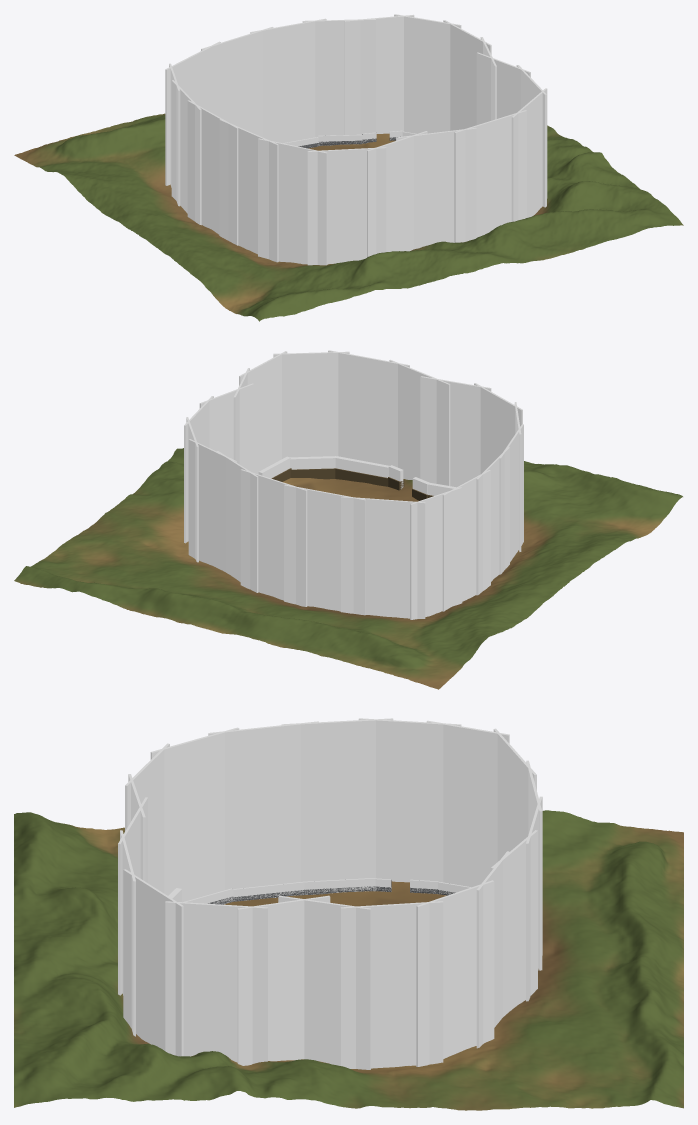
File: firingrange_shell.glb
3 renders of one model, top to bottom at view 1: azimuth 30°, elevation 25°; view 2: azimuth 150°, elevation 25°; view 3: azimuth 270°, elevation 25°, orthographic. The views are drawn at different scales.
Parts seen in each view (by area): view 1: Terrain_Visual, COL_OutOfBounds_14, COL_OutOfBounds_11, COL_OutOfBounds_2, COL_OutOfBounds_15, COL_OutOfBounds_12, COL_OutOfBounds_5, COL_OutOfBounds_3, COL_OutOfBounds_4, COL_OutOfBounds_16, COL_OutOfBounds_1, COL_OutOfBounds_17 (+8 smaller); view 2: Terrain_Visual, COL_OutOfBounds_0, COL_OutOfBounds_1, COL_OutOfBounds_11, COL_OutOfBounds_10, COL_OutOfBounds_2, COL_OutOfBounds_13, COL_OutOfBounds_19, COL_OutOfBounds_12, COL_OutOfBounds_4, COL_OutOfBounds_18, COL_OutOfBounds_9 (+11 smaller); view 3: Terrain_Visual, COL_OutOfBounds_6, COL_OutOfBounds_9, COL_OutOfBounds_16, COL_OutOfBounds_17, COL_OutOfBounds_18, COL_OutOfBounds_5, COL_OutOfBounds_15, COL_OutOfBounds_8, COL_OutOfBounds_7, COL_OutOfBounds_19, COL_OutOfBounds_10 (+11 smaller).
Boxes of the visible parts, x1,y1,x2,y2 form: Terrain_Visual: [14, 113, 683, 321]; COL_OutOfBounds_14: [307, 147, 386, 265]; COL_OutOfBounds_11: [454, 110, 526, 242]; COL_OutOfBounds_2: [250, 18, 326, 143]; COL_OutOfBounds_15: [258, 138, 327, 265]; COL_OutOfBounds_12: [396, 128, 476, 249]; COL_OutOfBounds_5: [394, 14, 461, 133]; COL_OutOfBounds_3: [302, 19, 375, 137]; COL_OutOfBounds_4: [344, 14, 414, 134]; COL_OutOfBounds_16: [219, 119, 278, 262]; COL_OutOfBounds_1: [201, 27, 273, 137]; COL_OutOfBounds_17: [187, 100, 238, 245]; Terrain_Visual: [14, 448, 682, 689]; COL_OutOfBounds_0: [341, 496, 425, 618]; COL_OutOfBounds_1: [284, 484, 365, 615]; COL_OutOfBounds_11: [328, 350, 409, 467]; COL_OutOfBounds_10: [273, 351, 349, 458]; COL_OutOfBounds_2: [240, 469, 307, 606]; COL_OutOfBounds_13: [420, 376, 491, 487]; COL_OutOfBounds_19: [410, 487, 462, 619]; COL_OutOfBounds_12: [389, 359, 450, 485]; COL_OutOfBounds_4: [188, 439, 236, 571]; COL_OutOfBounds_18: [442, 470, 490, 611]; COL_OutOfBounds_9: [239, 351, 287, 474]; Terrain_Visual: [14, 810, 683, 1110]; COL_OutOfBounds_6: [340, 901, 443, 1068]; COL_OutOfBounds_9: [165, 901, 267, 1063]; COL_OutOfBounds_16: [208, 721, 318, 890]; COL_OutOfBounds_17: [281, 718, 393, 881]; COL_OutOfBounds_18: [358, 718, 461, 882]; COL_OutOfBounds_5: [416, 880, 494, 1066]; COL_OutOfBounds_15: [150, 727, 239, 902]; COL_OutOfBounds_8: [237, 895, 330, 1065]; COL_OutOfBounds_7: [278, 895, 370, 1069]; COL_OutOfBounds_19: [426, 720, 509, 887]; COL_OutOfBounds_10: [123, 869, 183, 1056].
Size of what is drawn, in the model's own units: 150 by 40.66 by 150.
